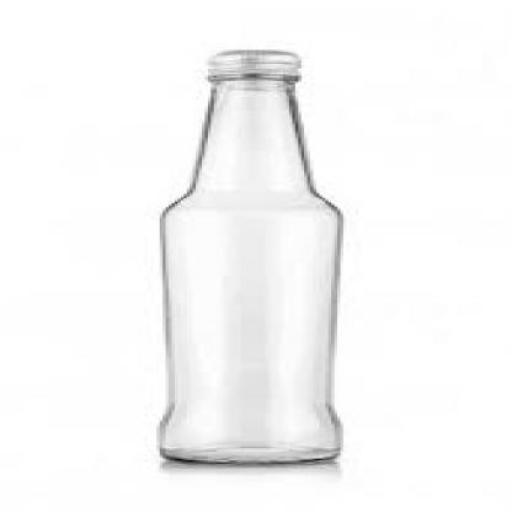glass: (156, 72, 341, 462)
metal: (199, 50, 298, 82)
